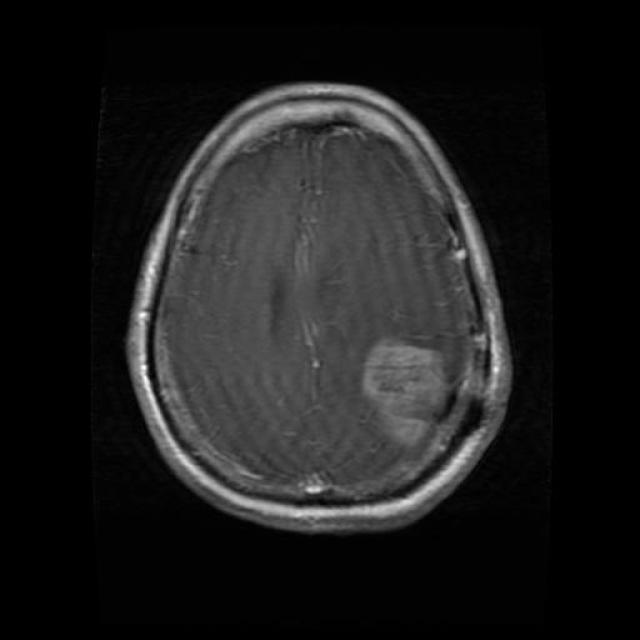glioma: (355, 334, 461, 440)
